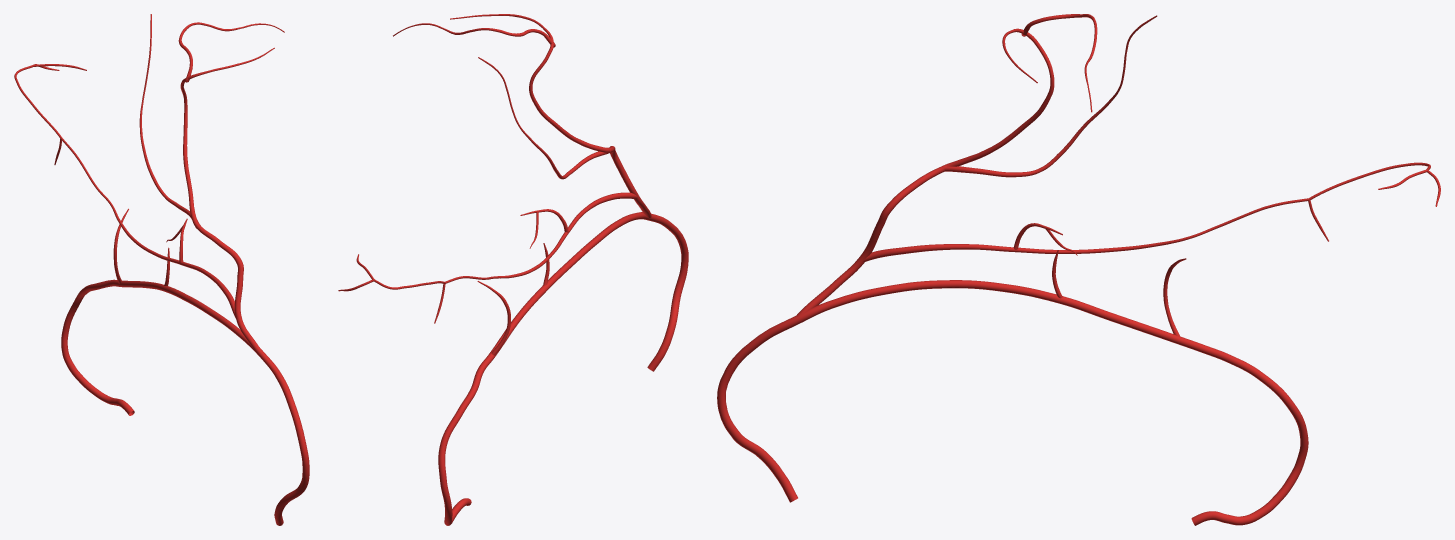
The model's file is circulatorio-pericallosal-artery-l.glb.
The picture shows the model from 3 angles, left to right: view 1: azimuth 30°, elevation 25°; view 2: azimuth 150°, elevation 25°; view 3: azimuth 270°, elevation 25°; orthographic projection. The views are drawn at different scales.
Visible parts, largest first — view 1: Pericallosal artery.l; view 2: Pericallosal artery.l; view 3: Pericallosal artery.l.
Part boxes in pixels (left/top/right/bottom): Pericallosal artery.l: left=14, top=14, right=309, bottom=525; Pericallosal artery.l: left=338, top=14, right=688, bottom=525; Pericallosal artery.l: left=717, top=14, right=1440, bottom=525.
Bounding box in the file's own units: 0.0312 × 0.0844 × 0.1064.
